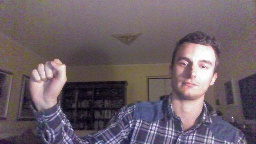Pugno: (26, 57, 67, 107)
